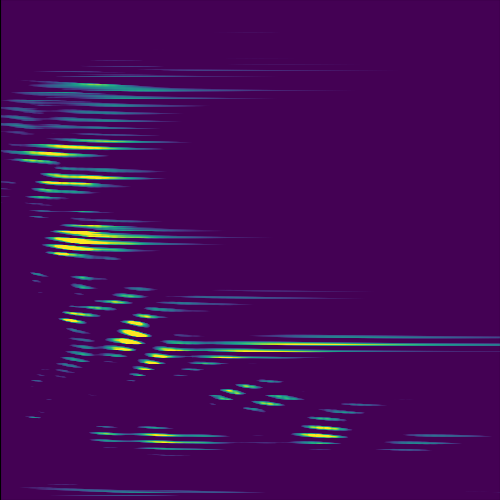semblance: (56, 294, 188, 381), (47, 219, 150, 264), (13, 135, 131, 165), (222, 377, 289, 414), (41, 167, 129, 192), (301, 422, 350, 445)
